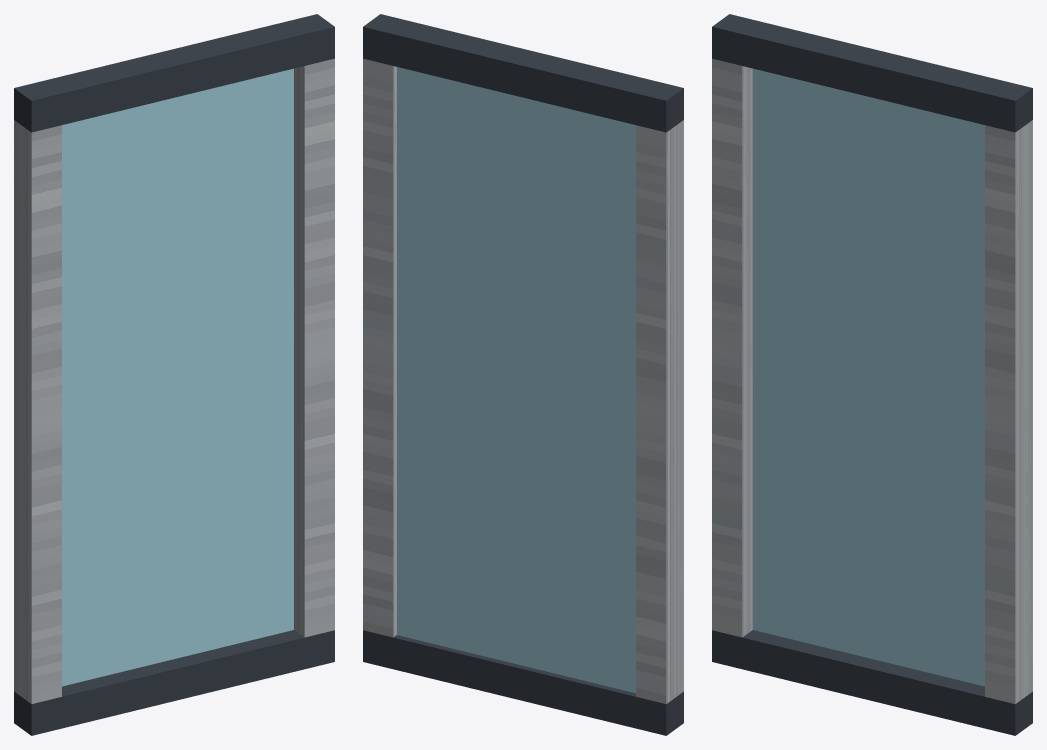
File: glass-1x2.glb
The picture shows the model from 3 angles, left to right: view 1: azimuth 30°, elevation 25°; view 2: azimuth 150°, elevation 25°; view 3: azimuth 330°, elevation 25°; orthographic projection.
Parts seen in each view (by area): view 1: Glass1x2; view 2: Glass1x2; view 3: Glass1x2.
Boxes of the visible parts, x1,y1,x2,y2 form: Glass1x2: (14,14,334,735); Glass1x2: (363,14,683,735); Glass1x2: (712,14,1032,735).
Bounding box in the file's own units: 1 × 2 × 0.1.
Materials: 3 (1 with a texture image).
